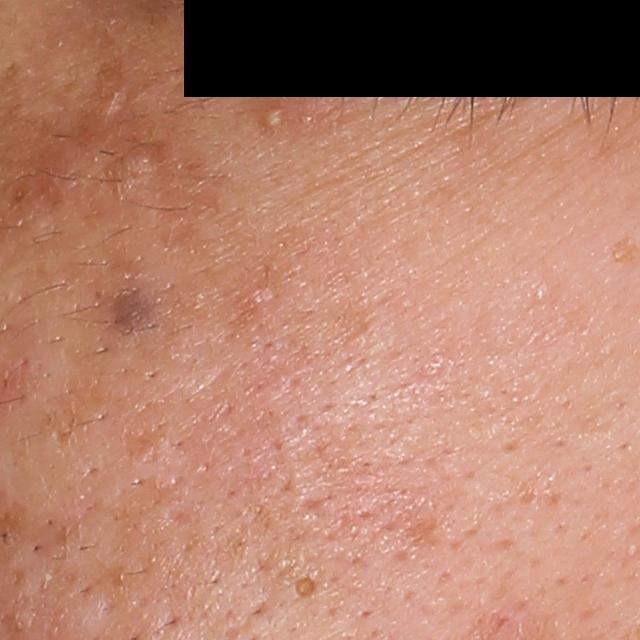comedo: (287, 565, 328, 609)
other: (107, 283, 168, 341), (98, 145, 157, 191)
